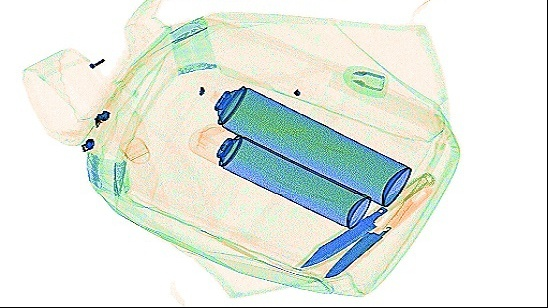knife: (294, 168, 436, 271), (320, 185, 436, 280)
pressure: (206, 82, 412, 209), (186, 122, 372, 230)
